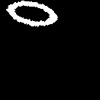chain: (6, 1, 57, 25)
